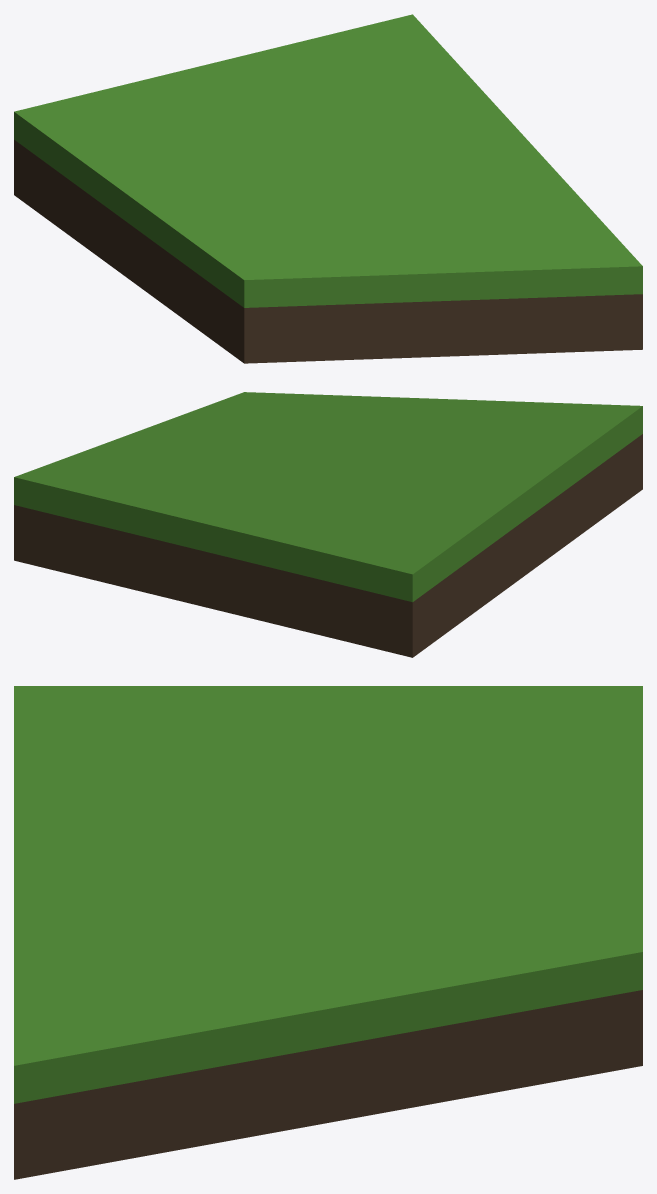
File: tile-hill-valley.glb
3 views of the same model, one above another, from view 1: azimuth 30°, elevation 25°; view 2: azimuth 150°, elevation 25°; view 3: azimuth 270°, elevation 25° (orthographic). The views are drawn at different scales.
Parts seen in each view (by area): view 1: tile-hill-valley; view 2: tile-hill-valley; view 3: tile-hill-valley.
Boxes of the visible parts, <box> form: tile-hill-valley: <box>14,14,642,363</box>; tile-hill-valley: <box>14,392,642,657</box>; tile-hill-valley: <box>14,686,642,1179</box>.
Size of the model in its own units: 30 by 12 by 30.
Materials: 1 (1 with a texture image).
